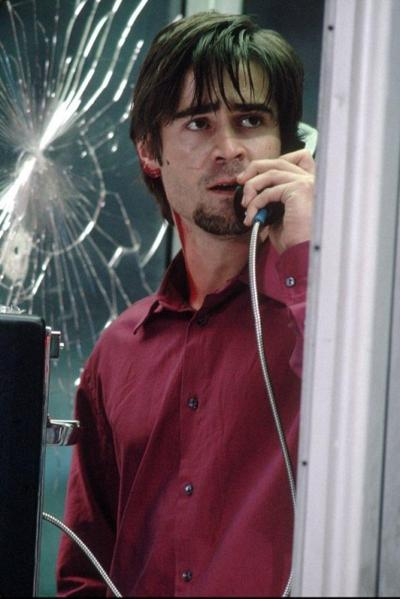person: (54, 10, 315, 591)
